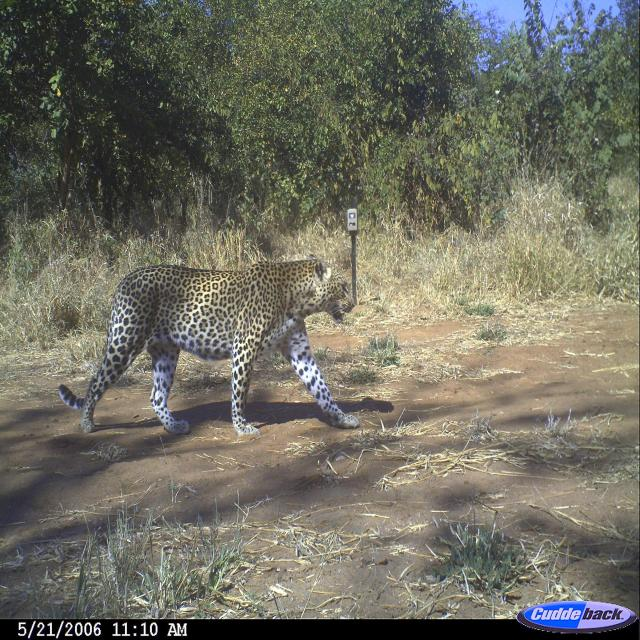Leopard: (56, 245, 362, 445)
